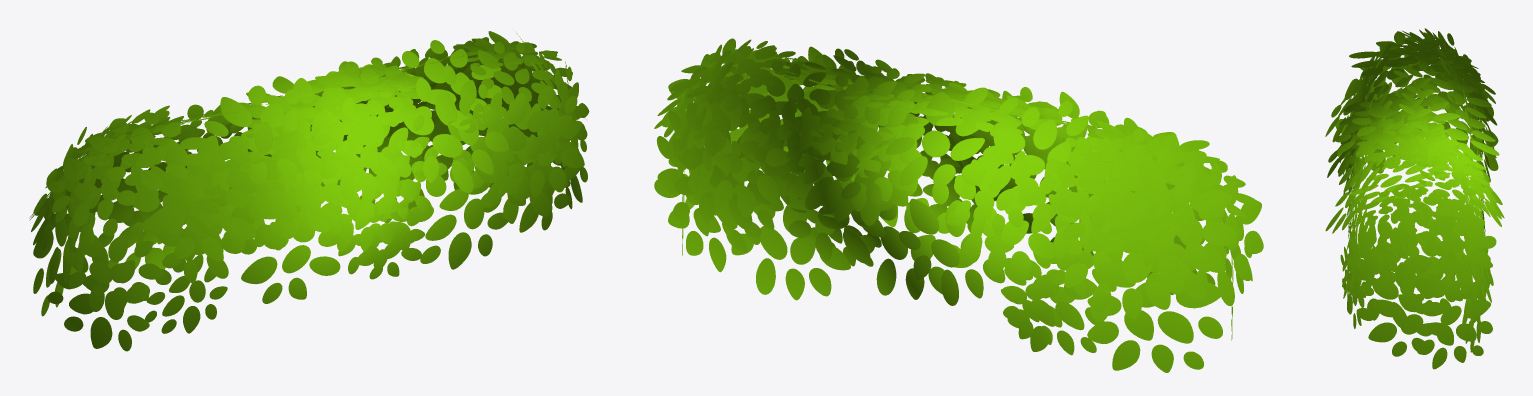
File: bush_small.gltf
3 views of the same model, side by side, from view 1: azimuth 30°, elevation 25°; view 2: azimuth 150°, elevation 25°; view 3: azimuth 270°, elevation 25° (orthographic). The views are drawn at different scales.
Parts seen in each view (by area): view 1: Bush_Small; view 2: Bush_Small; view 3: Bush_Small.
Part boxes in pixels (x1,y1,x2,y2): Bush_Small: (29,31,589,351); Bush_Small: (654,38,1263,372); Bush_Small: (1325,28,1504,369).
Bounding box in the file's own units: 1.9 × 0.7784 × 0.7238.
Materials: 1 (1 with a texture image).
